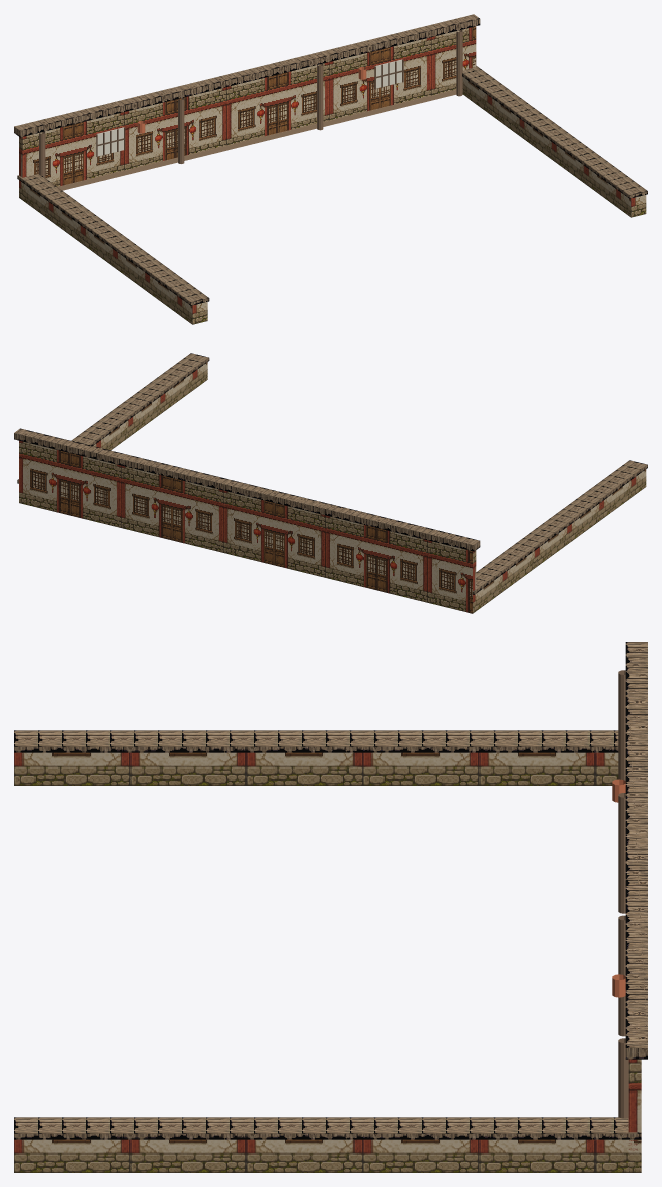
Rendered from rm_inn2.glb.
3 views of the same model, one above another, from view 1: azimuth 30°, elevation 25°; view 2: azimuth 150°, elevation 25°; view 3: azimuth 270°, elevation 25° (orthographic). The views are drawn at different scales.
Visible parts, largest first — view 1: wall, beam, side, trim, post, paper, lat; view 2: wall, beam, side; view 3: side, beam, post, wall.
Boxes of the visible parts, x1,y1,x2,y2 form: wall: (19,26,476,197); beam: (14,14,647,305); side: (19,77,646,324); trim: (58,89,456,190); post: (39,30,462,177); paper: (97,59,401,156); lat: (96,59,403,156); wall: (19,440,476,613); beam: (14,353,647,594); side: (93,362,646,611); side: (14,752,641,1172); beam: (14,642,647,1139); post: (618,670,628,1118); wall: (628,1059,641,1172).
Bounding box in the file's own units: 300 × 44.01 × 198.
8 materials, 3 textured.
